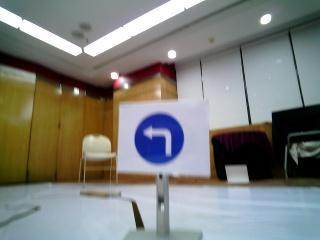left: (120, 107, 198, 174)
